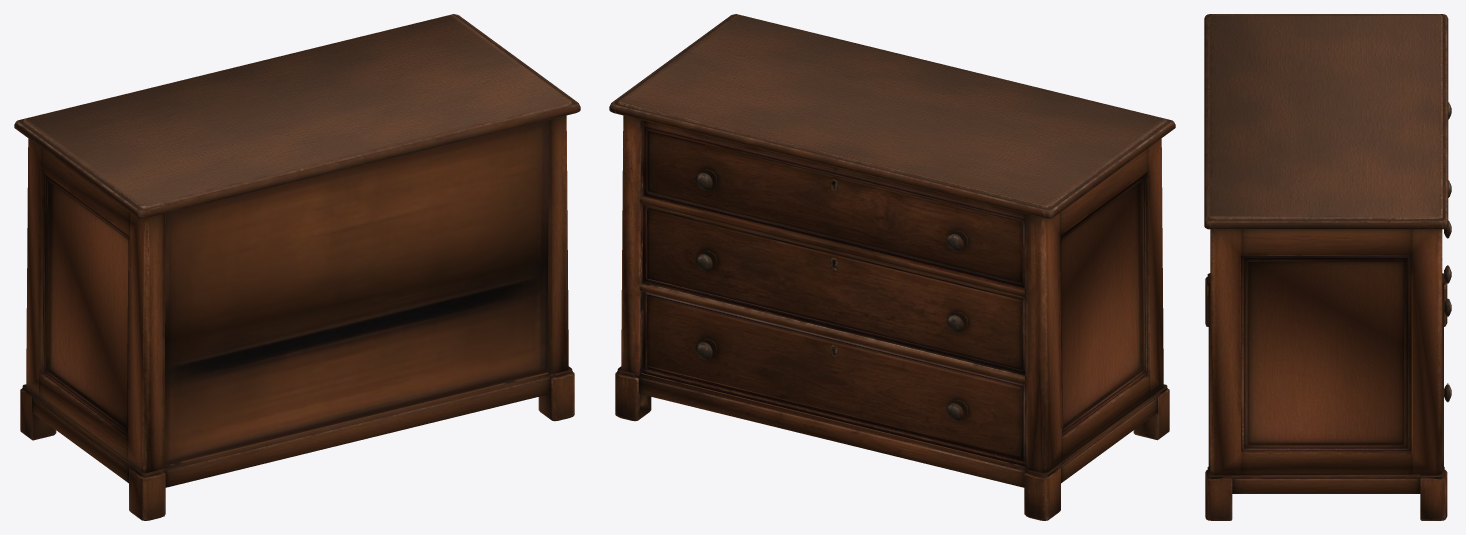
The model's file is furniture-dresser.glb.
The picture shows the model from 3 angles, left to right: view 1: azimuth 30°, elevation 25°; view 2: azimuth 150°, elevation 25°; view 3: azimuth 270°, elevation 25°; orthographic projection. The views are drawn at different scales.
Parts seen in each view (by area): view 1: tripo_node_0b5a8c56-71b5-49f5-800c-1139ee84b7ce; view 2: tripo_node_0b5a8c56-71b5-49f5-800c-1139ee84b7ce; view 3: tripo_node_0b5a8c56-71b5-49f5-800c-1139ee84b7ce.
Part boxes in pixels (left/top/right/bottom): tripo_node_0b5a8c56-71b5-49f5-800c-1139ee84b7ce: left=14, top=14, right=580, bottom=520; tripo_node_0b5a8c56-71b5-49f5-800c-1139ee84b7ce: left=609, top=14, right=1175, bottom=520; tripo_node_0b5a8c56-71b5-49f5-800c-1139ee84b7ce: left=1204, top=14, right=1451, bottom=520.
Size of the model in its own units: 1.3 by 0.88 by 0.65.
1 material, 1 textured.
